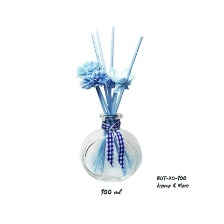bottle: (72, 111, 151, 188)
